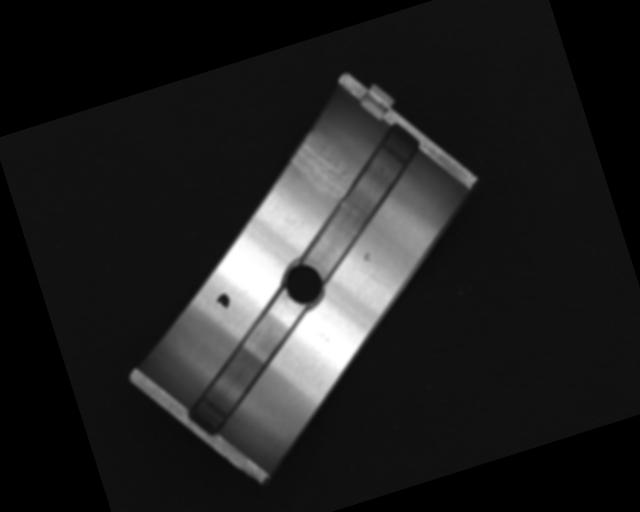blot: (214, 290, 233, 311)
bruise: (361, 251, 373, 262)
gap: (271, 118, 447, 280), (161, 287, 332, 440)
hole: (279, 258, 329, 312)
scratch: (285, 124, 359, 214)
